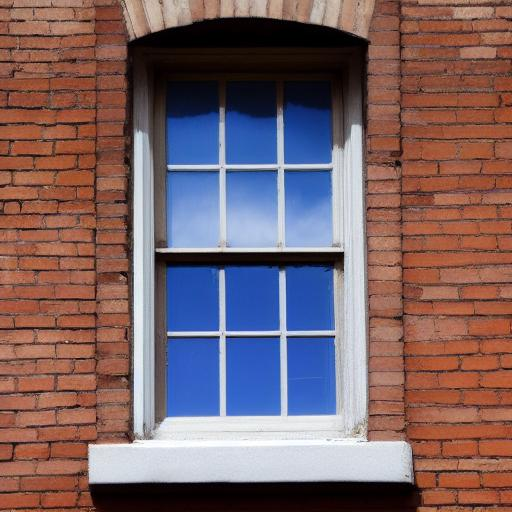Window: (90, 2, 419, 498)
